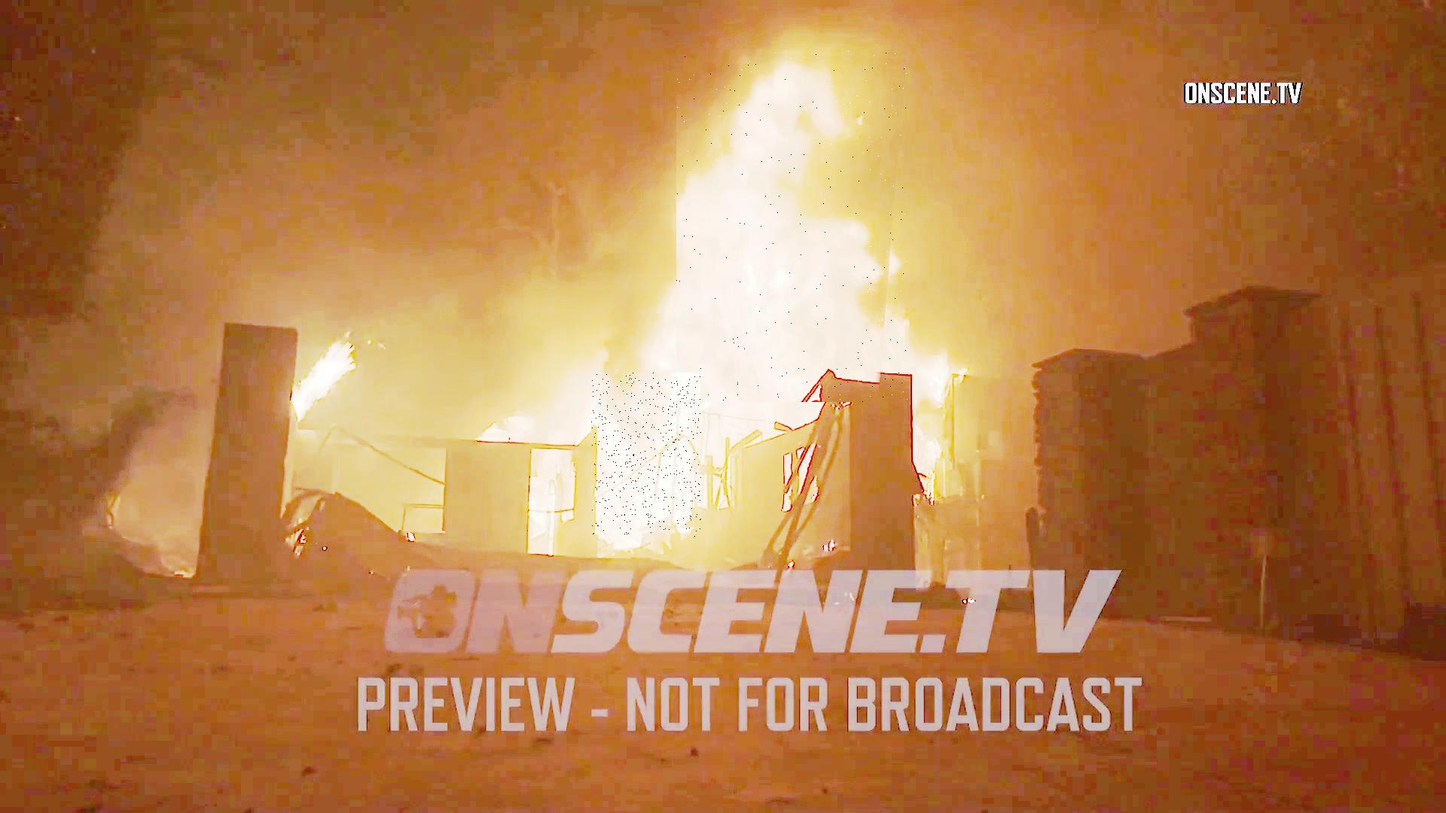fire: (677, 50, 908, 402), (591, 373, 701, 537)
